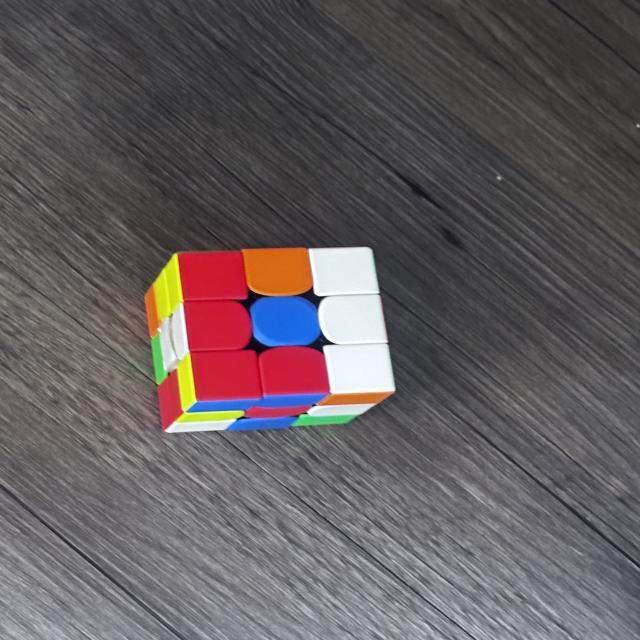sticker: (192, 353, 262, 398), (184, 302, 252, 348), (310, 251, 380, 295), (244, 250, 311, 293), (250, 302, 318, 343), (182, 254, 245, 298), (262, 353, 329, 394), (326, 347, 400, 383), (323, 302, 382, 340)
